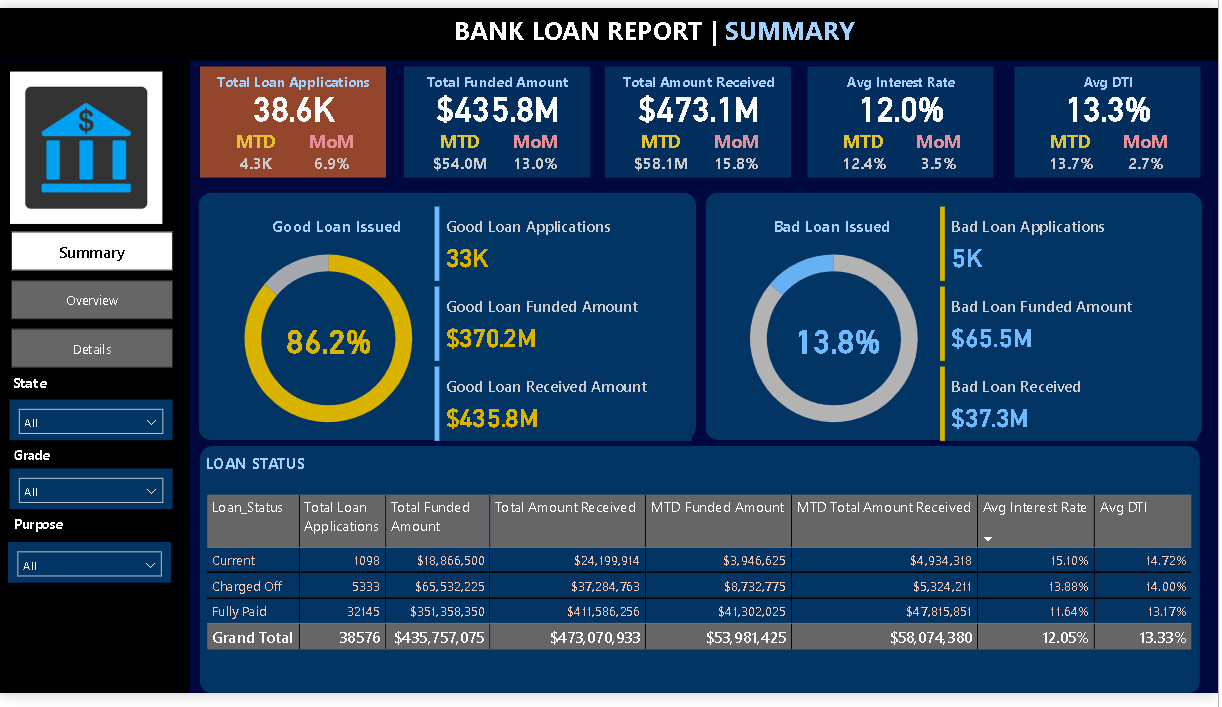

This screenshot's page, from the dashboard's own definition file:
{"tool":"powerbi","page":{"name":"Summary","canvas":[1280,720],"ordinal":0},"visuals":[{"type":"shape","box":[0,55,200,665],"z":0},{"type":"shape","box":[0,0,1280.5,55],"z":1000},{"type":"shape","box":[210,193.8,522.5,260],"z":2000},{"type":"textbox","box":[471.9,0,453.7,54.7],"z":3000},{"type":"shape","box":[210.8,61.5,195.4,116.9],"z":3000,"group":"g1"},{"type":"shape","box":[424.6,61.5,195.4,116.9],"z":3000,"group":"g2"},{"type":"shape","box":[636.9,61.5,195.4,116.9],"z":3000,"group":"g3"},{"type":"shape","box":[849.2,61.5,195.4,116.9],"z":3000,"group":"g4"},{"type":"shape","box":[1066.7,61.7,195.4,116.9],"z":3000,"group":"g5"},{"type":"group","id":"g1","title":"Group 1","box":[210.8,61.5,195.4,116.9],"z":4000},{"type":"card","fields":{"Values":["Table1.Total Loan Applications"]},"box":[212.3,80,193.8,46.2],"z":4000,"group":"g1"},{"type":"card","fields":{"Values":["Table1.Total Funded Amount"]},"box":[426.1,80,193.8,46.2],"z":4000,"group":"g2"},{"type":"card","fields":{"Values":["Table1.Total Amount Received"]},"box":[638.4,80,193.8,46.2],"z":4000,"group":"g3"},{"type":"card","fields":{"Values":["Table1.Avg Interest Rate"]},"box":[850.7,80,193.8,46.2],"z":4000,"group":"g4"},{"type":"card","fields":{"Values":["Table1.Avg DTI"]},"box":[1068.2,80.2,193.8,46.2],"z":4000,"group":"g5"},{"type":"textbox","box":[212.3,61.5,193.8,36.9],"z":5000,"group":"g1"},{"type":"group","id":"g2","title":"Group 1","box":[424.6,61.5,195.4,116.9],"z":5000},{"type":"textbox","box":[426.1,61.5,193.8,36.9],"z":5000,"group":"g2"},{"type":"textbox","box":[638.4,61.5,193.8,36.9],"z":5000,"group":"g3"},{"type":"textbox","box":[850.7,61.5,193.8,36.9],"z":5000,"group":"g4"},{"type":"textbox","box":[1068.2,61.7,193.8,36.9],"z":5000,"group":"g5"},{"type":"card","title":"MTD","fields":{"Values":["Table1.MTD Loan Applications"]},"box":[229.3,126.1,80,52.3],"z":6000,"group":"g1"},{"type":"card","title":"MTD","fields":{"Values":["Table1.MTD Funded Amount"]},"box":[443.1,126.1,80,52.3],"z":6000,"group":"g2"},{"type":"card","title":"MTD","fields":{"Values":["Table1.MTD Total Amount Received"]},"box":[655.4,126.1,80,52.3],"z":6000,"group":"g3"},{"type":"card","title":"MTD","fields":{"Values":["Table1.MTD Avg Int Rate"]},"box":[867.7,126.1,80,52.3],"z":6000,"group":"g4"},{"type":"card","title":"MTD","fields":{"Values":["Table1.MTD Avg DTI"]},"box":[1085.2,126.3,80,52.3],"z":6000,"group":"g5"},{"type":"shape","box":[741.2,193.8,521.2,260],"z":6000},{"type":"card","title":"MoM","fields":{"Values":["Table1.MpM Loan Application"]},"box":[309.3,126.1,76.9,52.3],"z":7000,"group":"g1"},{"type":"card","title":"MoM","fields":{"Values":["Table1.MoM Total Funded Amount"]},"box":[523.1,126.1,76.9,52.3],"z":7000,"group":"g2"},{"type":"card","title":"MoM","fields":{"Values":["Table1.MoM Total Amount Recevied"]},"box":[735.4,126.1,76.9,52.3],"z":7000,"group":"g3"},{"type":"card","title":"MoM","fields":{"Values":["Table1.MoM Avg Int Rate"]},"box":[947.7,126.1,76.9,52.3],"z":7000,"group":"g4"},{"type":"card","title":"MoM","fields":{"Values":["Table1.MoM Avg DTI"]},"box":[1165.2,126.3,76.9,52.3],"z":7000,"group":"g5"},{"type":"textbox","box":[258.8,212.5,193.8,37.5],"z":7000},{"type":"card","fields":{"Values":["Table1.Good Loan %"]},"box":[277.5,323.8,137.5,45],"z":8000},{"type":"group","id":"g3","title":"Group 1","box":[636.9,61.5,195.4,116.9],"z":9000},{"type":"group","id":"g4","title":"Group 1","box":[849.2,61.5,195.4,116.9],"z":10000},{"type":"shape","box":[211.2,460,1050,260],"z":11000},{"type":"group","id":"g5","title":"Group 1","box":[1066.7,61.7,195,116.7],"z":12000},{"type":"donutChart","fields":{"Category":["Table1.Good vs Bad Loan"],"Y":["Table1.Total Loan Applications"]},"box":[221.2,231.2,250,230],"z":13000},{"type":"donutChart","fields":{"Category":["Table1.Good vs Bad Loan"],"Y":["Table1.Total Loan Applications"]},"box":[751.2,231.2,250,230],"z":14000},{"type":"cardVisual","fields":{"Data":["Table1.Good Loan Applications","Table1.Good Loan Funded Amount","Table1.Good Loan Received Amount"]},"box":[452.5,203.8,280,257.5],"z":15000},{"type":"textbox","box":[777.5,212.5,193.8,37.5],"z":16000},{"type":"textbox","box":[212.5,461.2,193.8,37.5],"z":17000},{"type":"tableEx","fields":{"Values":["Table1.loan_status","Table1.Total Loan Applications","Table1.Total Funded Amount","Table1.Total Amount Received","Table1.MTD Funded Amount","Table1.MTD Total Amount Received","Table1.Avg Interest Rate","Table1.Avg DTI"]},"box":[212.5,505,1050,195],"z":18000},{"type":"card","fields":{"Values":["Table1.Bad Loan %"]},"box":[812.5,323.8,135,45],"z":19000},{"type":"cardVisual","fields":{"Data":["Table1.Bad Loan Applications","Table1.Bad Loan Funded Amount","Table1.Bad Loan Received"]},"box":[982.5,203.8,280,257.5],"z":20000},{"type":"slicer","fields":{"Values":["Table1.grade"]},"box":[11.2,483.8,171.2,42.5],"z":21000},{"type":"textbox","box":[10,378.8,60,32.5],"z":22000},{"type":"slicer","fields":{"Values":["Table1.address_state"]},"box":[11.2,411.2,171.2,42.5],"z":23000},{"type":"textbox","box":[11.2,453.8,60,32.5],"z":24000},{"type":"textbox","box":[11.2,526.2,71.2,32.5],"z":25000},{"type":"slicer","fields":{"Values":["Table1.purpose"]},"box":[10,560,171.2,42.5],"z":26000},{"type":"image","box":[2,60.8,180.3,170.1],"z":26001},{"type":"pageNavigator","box":[12.2,234.9,170.1,143.8],"z":26002}]}

Visuals, with their boxes in screenshot pixels (x1, y1, x2, y2), scaled from the page's 1280x720 canvas onto the 1222x707 screenshot:
shape: 0, 54, 191, 706
shape: 0, 0, 1221, 54
shape: 200, 190, 699, 446
textbox: 451, 0, 884, 54
shape: 201, 60, 388, 175
shape: 405, 60, 592, 175
shape: 608, 60, 795, 175
shape: 811, 60, 997, 175
shape: 1018, 61, 1205, 175
"Group 1" group: 201, 60, 388, 175
card - Table1.Total Loan Applications: 203, 79, 388, 124
card - Table1.Total Funded Amount: 407, 79, 592, 124
card - Table1.Total Amount Received: 609, 79, 794, 124
card - Table1.Avg Interest Rate: 812, 79, 997, 124
card - Table1.Avg DTI: 1020, 79, 1205, 124
textbox: 203, 60, 388, 97
"Group 1" group: 405, 60, 592, 175
textbox: 407, 60, 592, 97
textbox: 609, 60, 794, 97
textbox: 812, 60, 997, 97
textbox: 1020, 61, 1205, 97
"MTD" card: 219, 124, 295, 175
"MTD" card: 423, 124, 499, 175
"MTD" card: 626, 124, 702, 175
"MTD" card: 828, 124, 905, 175
"MTD" card: 1036, 124, 1112, 175
shape: 708, 190, 1205, 446
"MoM" card: 295, 124, 369, 175
"MoM" card: 499, 124, 573, 175
"MoM" card: 702, 124, 775, 175
"MoM" card: 905, 124, 978, 175
"MoM" card: 1112, 124, 1186, 175
textbox: 247, 209, 432, 245
card - Table1.Good Loan %: 265, 318, 396, 362
"Group 1" group: 608, 60, 795, 175
"Group 1" group: 811, 60, 997, 175
shape: 202, 452, 1204, 706
"Group 1" group: 1018, 61, 1205, 175
donutChart - Table1.Good vs Bad Loan x Table1.Total Loan Applications: 211, 227, 450, 453
donutChart - Table1.Good vs Bad Loan x Table1.Total Loan Applications: 717, 227, 956, 453
cardVisual - Table1.Good Loan Applications x Table1.Good Loan Funded Amount: 432, 200, 699, 453
textbox: 742, 209, 927, 245
textbox: 203, 453, 388, 490
tableEx - Table1.loan_status x Table1.Total Loan Applications: 203, 496, 1205, 687
card - Table1.Bad Loan %: 776, 318, 905, 362
cardVisual - Table1.Bad Loan Applications x Table1.Bad Loan Funded Amount: 938, 200, 1205, 453
slicer - Table1.grade: 11, 475, 174, 517
textbox: 10, 372, 67, 404
slicer - Table1.address_state: 11, 404, 174, 446
textbox: 11, 446, 68, 478
textbox: 11, 517, 79, 549
slicer - Table1.purpose: 10, 550, 173, 592
image: 2, 60, 174, 227
pageNavigator: 12, 231, 174, 372
